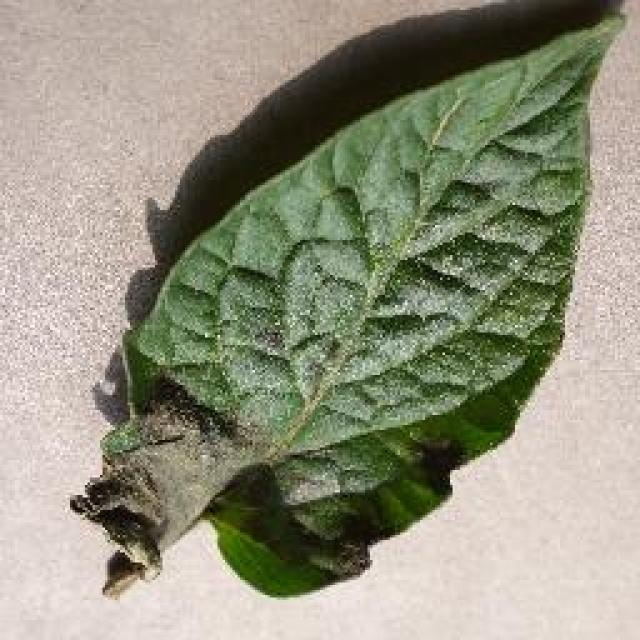Tomato_Late_Blight: (68, 410, 371, 592)
